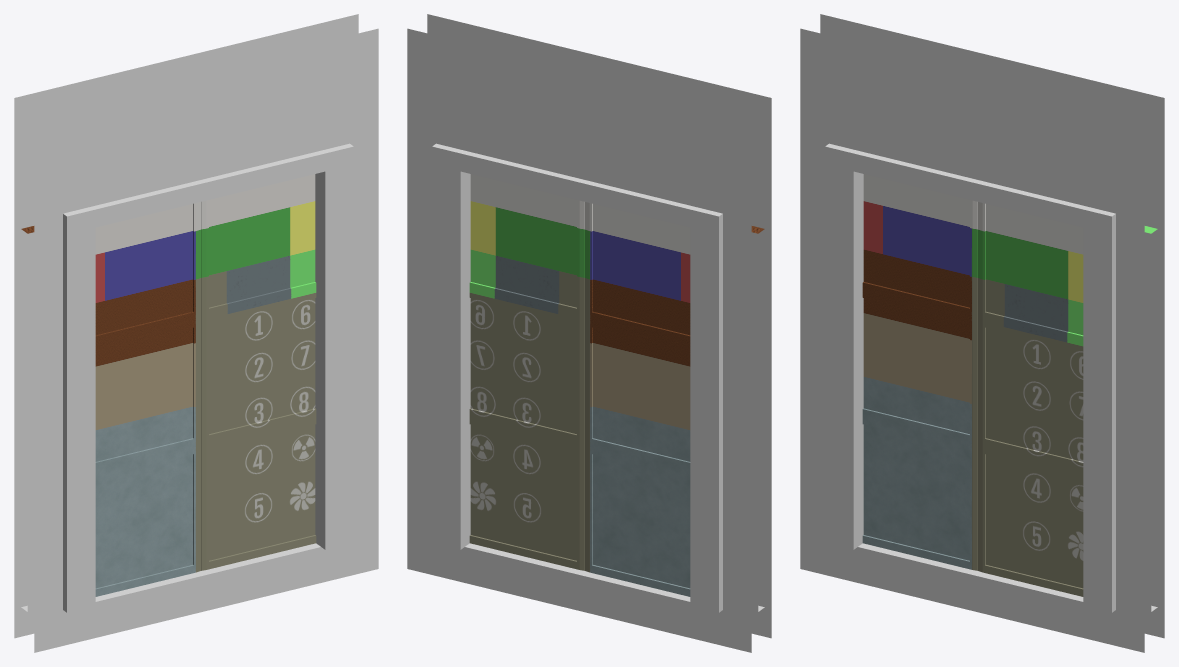
Rendered from ME_singledoor_2x2.fbx.
The picture shows the model from 3 angles, left to right: view 1: azimuth 30°, elevation 25°; view 2: azimuth 150°, elevation 25°; view 3: azimuth 330°, elevation 25°; orthographic projection.
Parts seen in each view (by area): view 1: ME_singledoor_2x2, ME_door; view 2: ME_singledoor_2x2, ME_door; view 3: ME_singledoor_2x2, ME_door.
Part boxes in pixels (x1,y1,x2,y2): ME_singledoor_2x2: (14,14,378,652); ME_door: (95,174,316,596); ME_singledoor_2x2: (407,14,771,652); ME_door: (469,174,690,596); ME_singledoor_2x2: (800,14,1164,652); ME_door: (862,174,1083,596).
Bounding box in the file's own units: 2 × 3 × 0.28.
